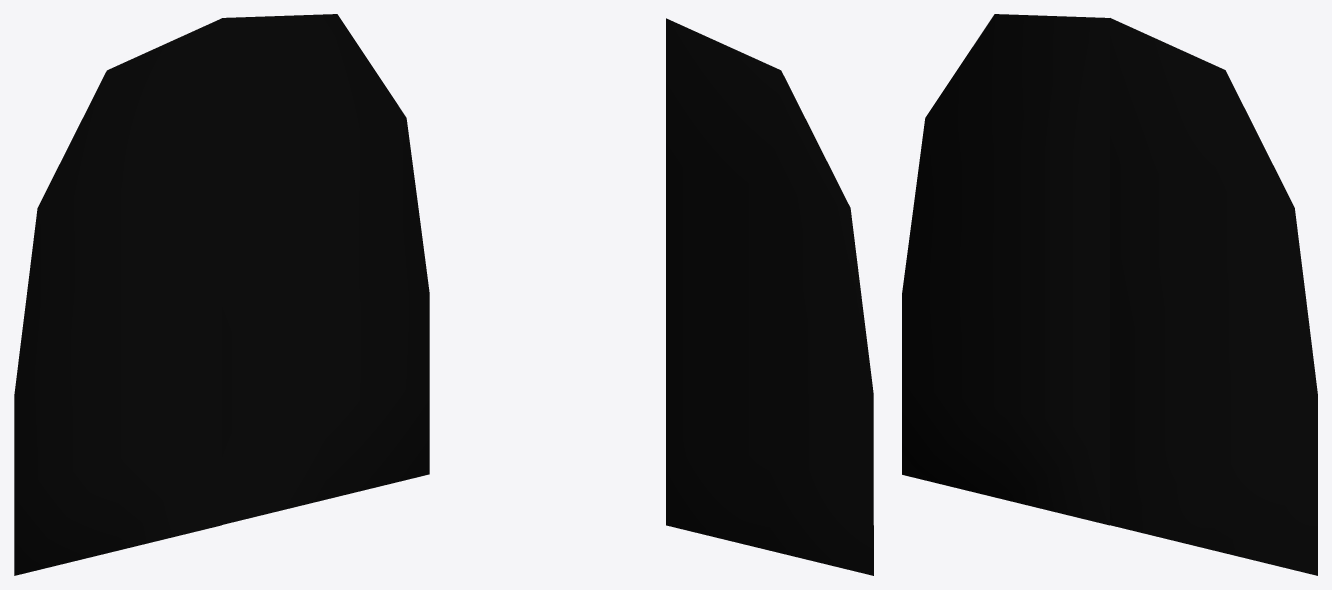
3 renders of one model, left to right at view 1: azimuth 30°, elevation 25°; view 2: azimuth 150°, elevation 25°; view 3: azimuth 330°, elevation 25°, orthographic.
Parts seen in each view (by area): view 1: T1L3M002_5; view 2: T1L3M002_5; view 3: T1L3M002_5.
Part boxes in pixels (left/top/right/bottom): T1L3M002_5: left=14, top=14, right=429, bottom=575; T1L3M002_5: left=666, top=18, right=873, bottom=575; T1L3M002_5: left=902, top=14, right=1317, bottom=575.
Bounding box in the file's own units: 3.6 × 4.2 × 0.00236.
